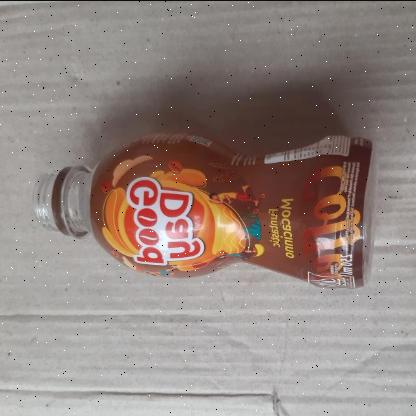Plastic Bottle: (31, 127, 379, 291)
